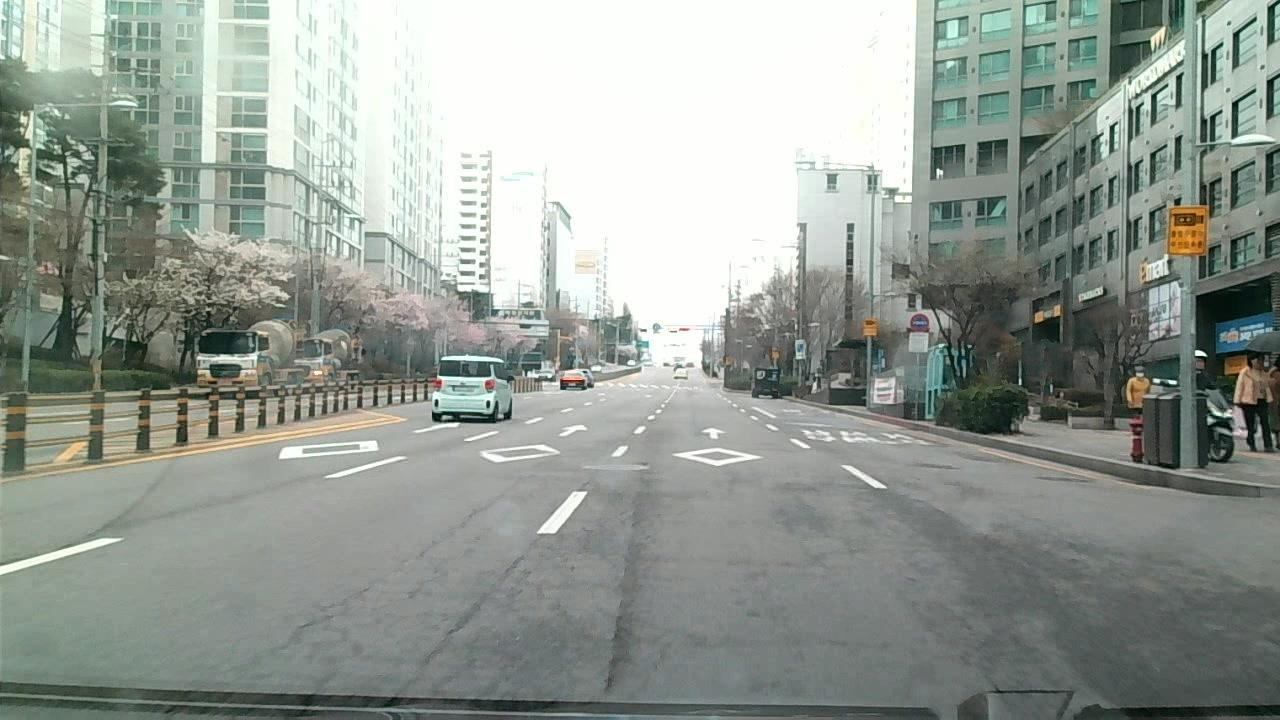banner: (371, 549, 535, 712), (266, 577, 368, 720), (599, 506, 635, 703), (415, 488, 498, 552), (954, 652, 1016, 703)
